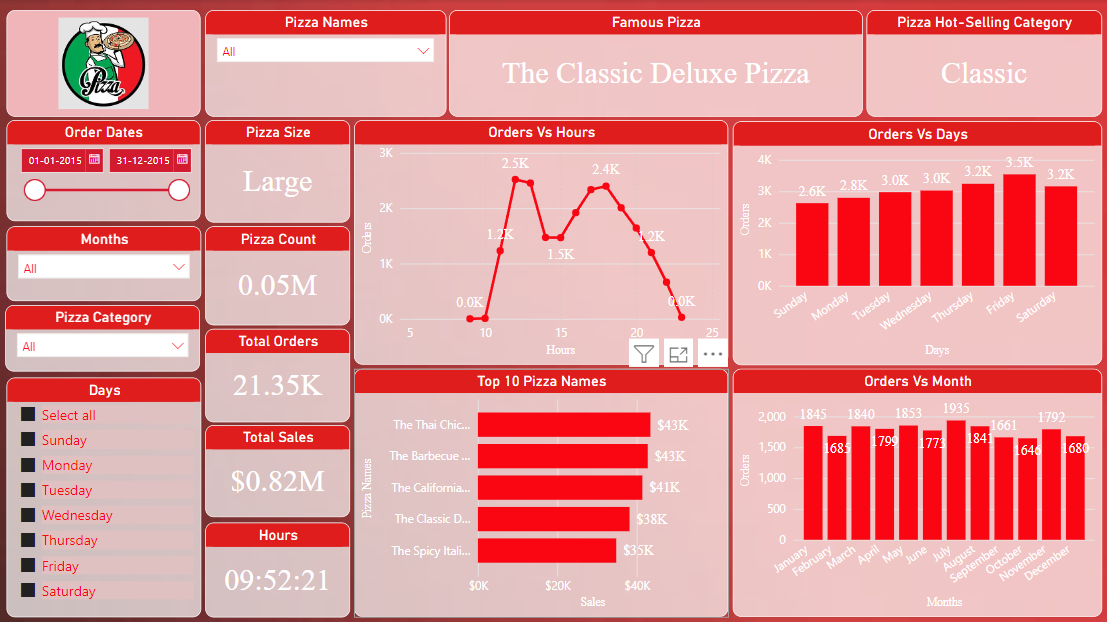

This screenshot's page, from the dashboard's own definition file:
{"tool":"powerbi","page":{"name":"Page 1","canvas":[1280,720],"ordinal":0},"visuals":[{"type":"lineChart","title":"Orders Vs Hours","fields":{"Category":["orders.Hour"],"Y":["CountNonNull(orders.order_id)"]},"box":[410.3,138.6,432.2,282],"z":0},{"type":"columnChart","title":"Orders Vs Month","fields":{"Category":["orders.Month Name"],"Y":["CountNonNull(orders.order_id)"]},"box":[846.7,425.4,426.8,286.8],"z":1000},{"type":"clusteredColumnChart","title":"Orders Vs Days","fields":{"Y":["CountNonNull(orders.order_id)"],"Category":["orders.Day Name"]},"box":[846.7,140,426.8,281.3],"z":2000},{"type":"slicer","title":"Order Dates","fields":{"Values":["orders.date"]},"box":[8.2,138.6,223.7,116.6],"z":3000},{"type":"card","title":"Total Sales","fields":{"Values":["Sum(order_details.Sales)"]},"box":[238.8,491.3,167.4,106],"z":4000},{"type":"image","box":[8.2,11,223.7,123.5],"z":5000},{"type":"card","title":"Pizza Count","fields":{"Values":["CountNonNull(order_details.quantity)"]},"box":[238.8,260.7,167.4,114],"z":6000},{"type":"slicer","title":"Months","fields":{"Values":["orders.Month Name"]},"box":[8.2,260.7,225,86],"z":7000},{"type":"slicer","title":"Days","fields":{"Values":["orders.Day Name"]},"box":[8.2,435,225,277.2],"z":8000},{"type":"slicer","title":"Pizza Category","fields":{"Values":["pizza_types.category"]},"box":[6.9,352.7,225,77],"z":9000},{"type":"card","title":"Pizza Size","fields":{"Values":["Min(order_details.pizza_size)"]},"box":[238.8,138.6,167.4,118],"z":10000},{"type":"card","title":"Total Orders","fields":{"Values":["CountNonNull(orders.order_id)"]},"box":[238.8,378.7,167.4,108],"z":11000},{"type":"card","title":"Famous Pizza","fields":{"Values":["order_details.MostOrderedPizza"]},"box":[520.1,11,477.5,123.5],"z":12000},{"type":"clusteredBarChart","title":"Top 10 Pizza Names","fields":{"Category":["pizza_types.name"],"Y":["Sum(order_details.Sales)"]},"box":[410.3,425.4,432.2,286.8],"z":13000},{"type":"slicer","title":"Pizza Names","fields":{"Values":["pizza_types.name"]},"box":[238.8,11,278,123.5],"z":14000},{"type":"card","title":"Pizza Hot-Selling Category","fields":{"Values":["pizza_types.MostHotSellingCategory"]},"box":[1001.7,11,271.7,123.5],"z":15000},{"type":"card","title":"Hours","fields":{"Values":["Min(orders.time)"]},"box":[238.8,602.4,167.4,109.8],"z":16000}]}

Visuals, with their boxes in screenshot pixels (x1, y1, x2, y2), scaled from the page's 1280x720 canvas onto the 1107x622 screenshot:
"Orders Vs Hours" lineChart: box=[355, 120, 729, 363]
"Orders Vs Month" columnChart: box=[732, 367, 1101, 615]
"Orders Vs Days" clusteredColumnChart: box=[732, 121, 1101, 364]
"Order Dates" slicer: box=[7, 120, 201, 220]
"Total Sales" card: box=[207, 424, 351, 516]
image: box=[7, 10, 201, 116]
"Pizza Count" card: box=[207, 225, 351, 324]
"Months" slicer: box=[7, 225, 202, 300]
"Days" slicer: box=[7, 376, 202, 615]
"Pizza Category" slicer: box=[6, 305, 201, 371]
"Pizza Size" card: box=[207, 120, 351, 222]
"Total Orders" card: box=[207, 327, 351, 420]
"Famous Pizza" card: box=[450, 10, 863, 116]
"Top 10 Pizza Names" clusteredBarChart: box=[355, 367, 729, 615]
"Pizza Names" slicer: box=[207, 10, 447, 116]
"Pizza Hot-Selling Category" card: box=[866, 10, 1101, 116]
"Hours" card: box=[207, 520, 351, 615]
